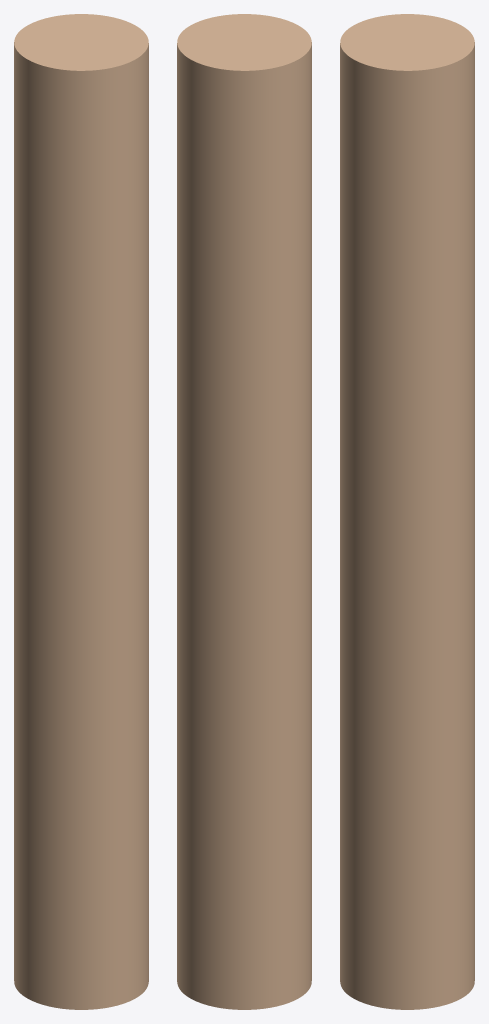
Rendered from spark-plug-copper-core.glb.
3 views of the same model, side by side, from view 1: azimuth 30°, elevation 25°; view 2: azimuth 150°, elevation 25°; view 3: azimuth 330°, elevation 25° (orthographic).
Parts seen in each view (by area): view 1: world; view 2: world; view 3: world.
Part boxes in pixels (x1=…): world: x1=14, y1=14, x2=148, y2=1009; world: x1=177, y1=14, x2=311, y2=1009; world: x1=340, y1=14, x2=474, y2=1009.
Size of the model in its own units: 0.0013 by 0.01 by 0.0013.
